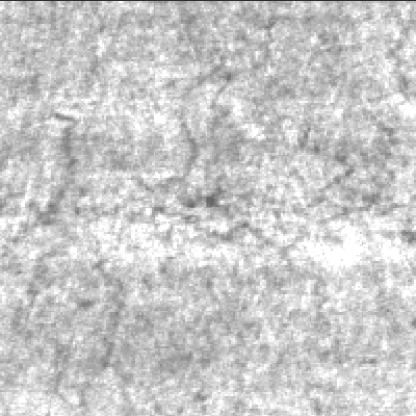crazing: (146, 48, 378, 256), (14, 114, 174, 412)
